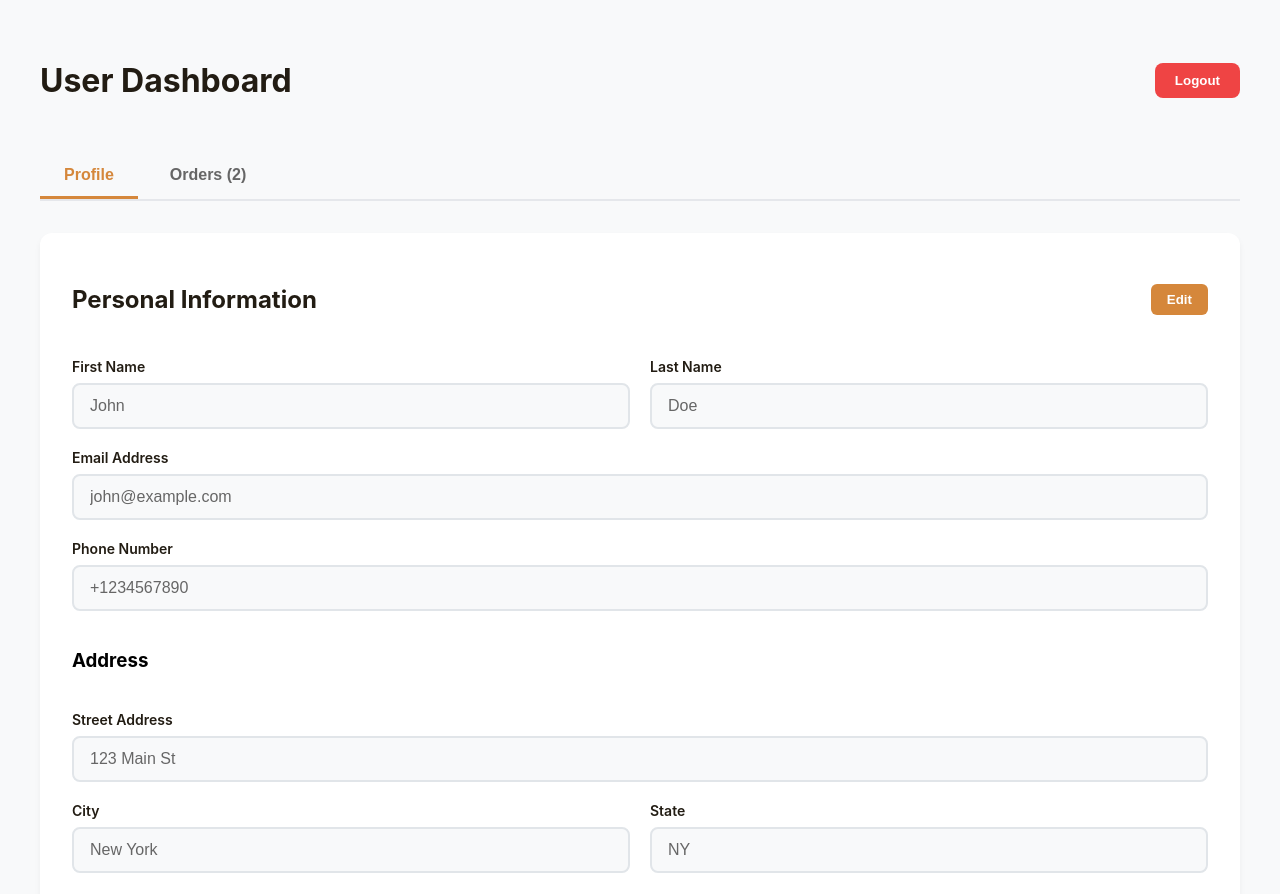
Test: DashboardPage › switches to orders tab when clicked
Click the button "Orders (2)": x=208, y=176 left=146, top=154, right=270, bottom=199
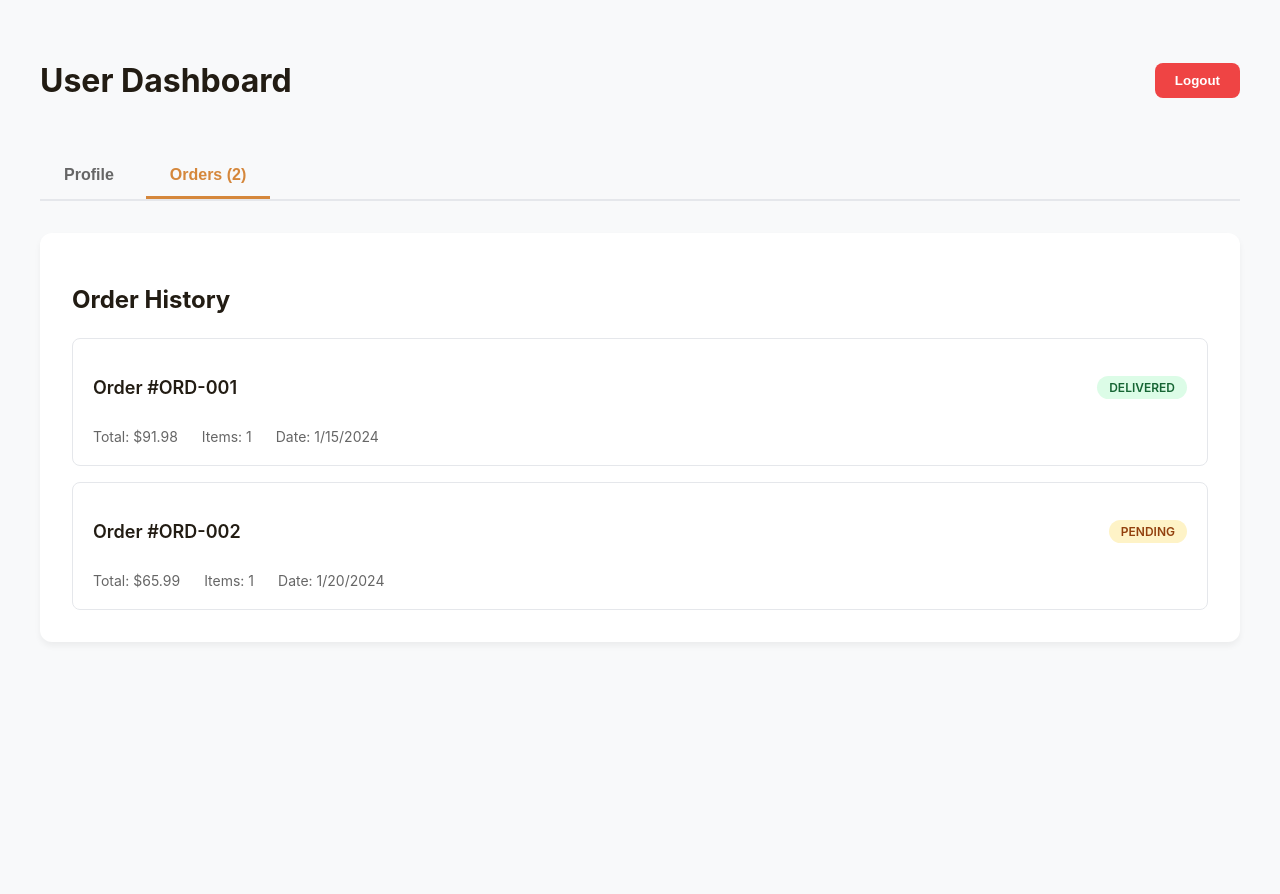
Check: the heading "Order History" is shown, box left=72, top=285, right=230, bottom=314
Check: the heading "Personal Information" is gone
